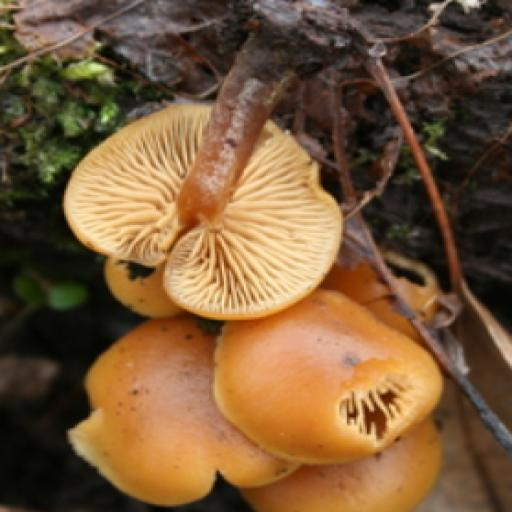Funeral Bell: (60, 23, 346, 321), (64, 290, 446, 512)
